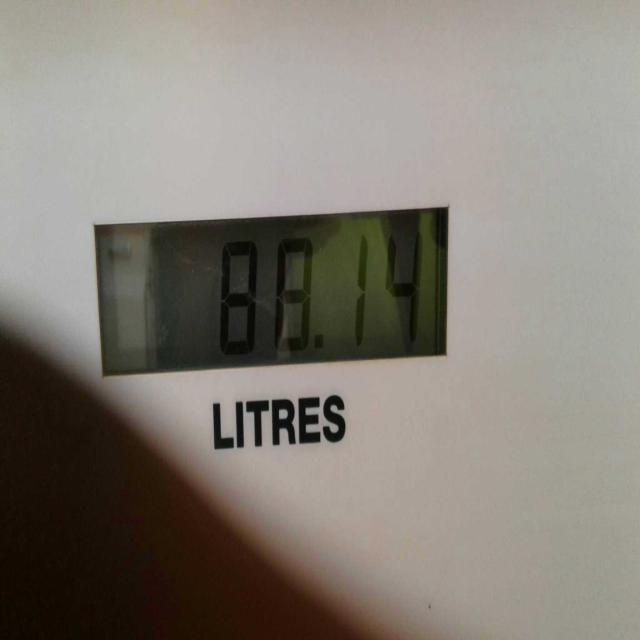.: (318, 336, 328, 351)
1: (352, 231, 370, 346)
4: (388, 231, 422, 352)
8: (274, 235, 311, 359), (220, 236, 256, 354)
